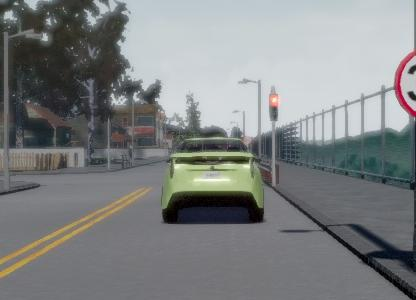Speed_30: (392, 38, 416, 123)
